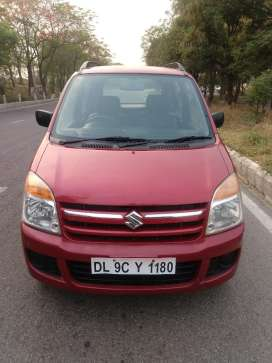license_plate: (91, 257, 177, 277)
